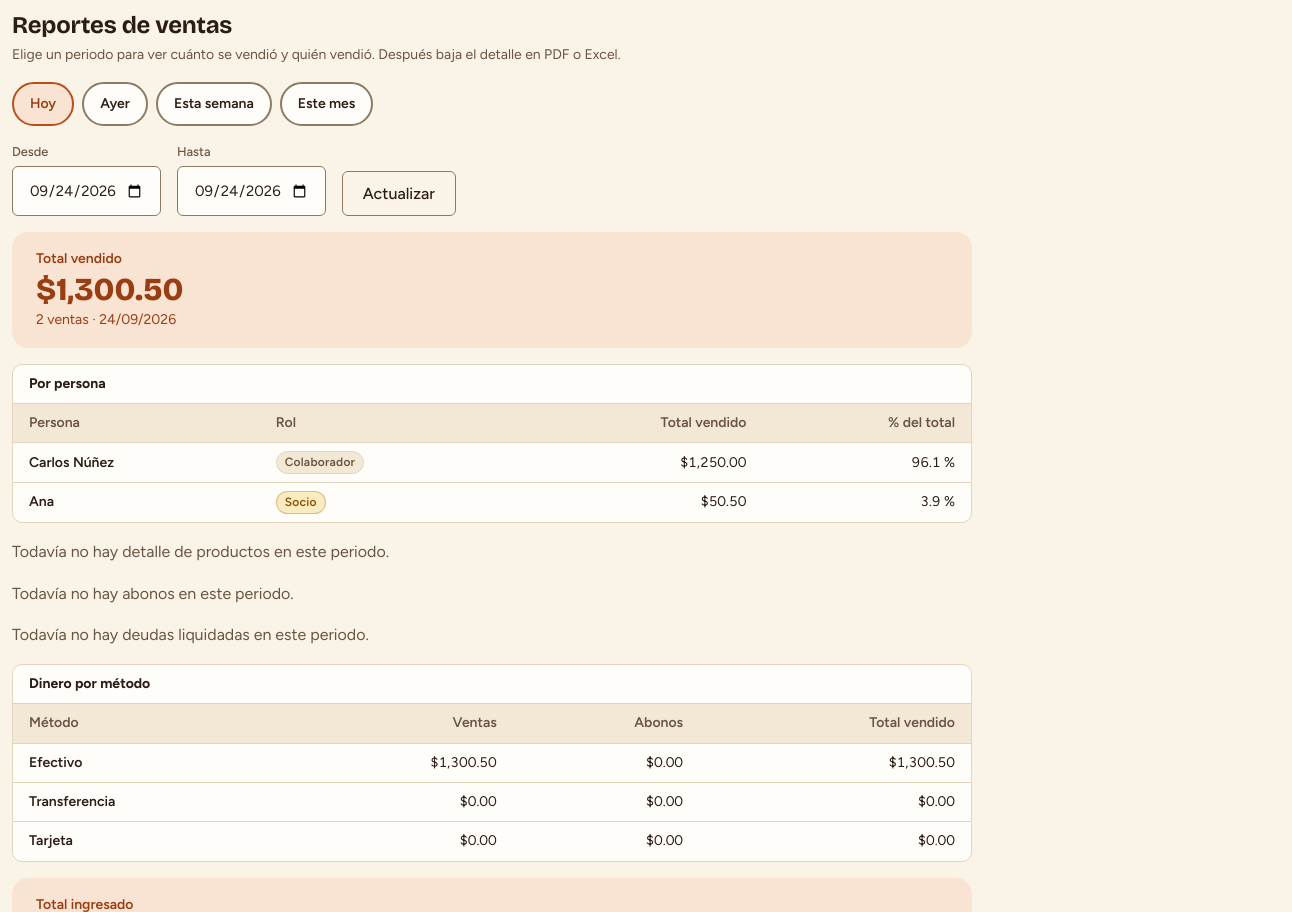
Test: ReportsView — rangos › preset "Esta semana" queries {"from":"2026-09-20","to":"2026-09-24"} right away
Click the button with class "report-range-picker__preset" showing "Esta semana": [214, 104] box left=156, top=82, right=272, bottom=126
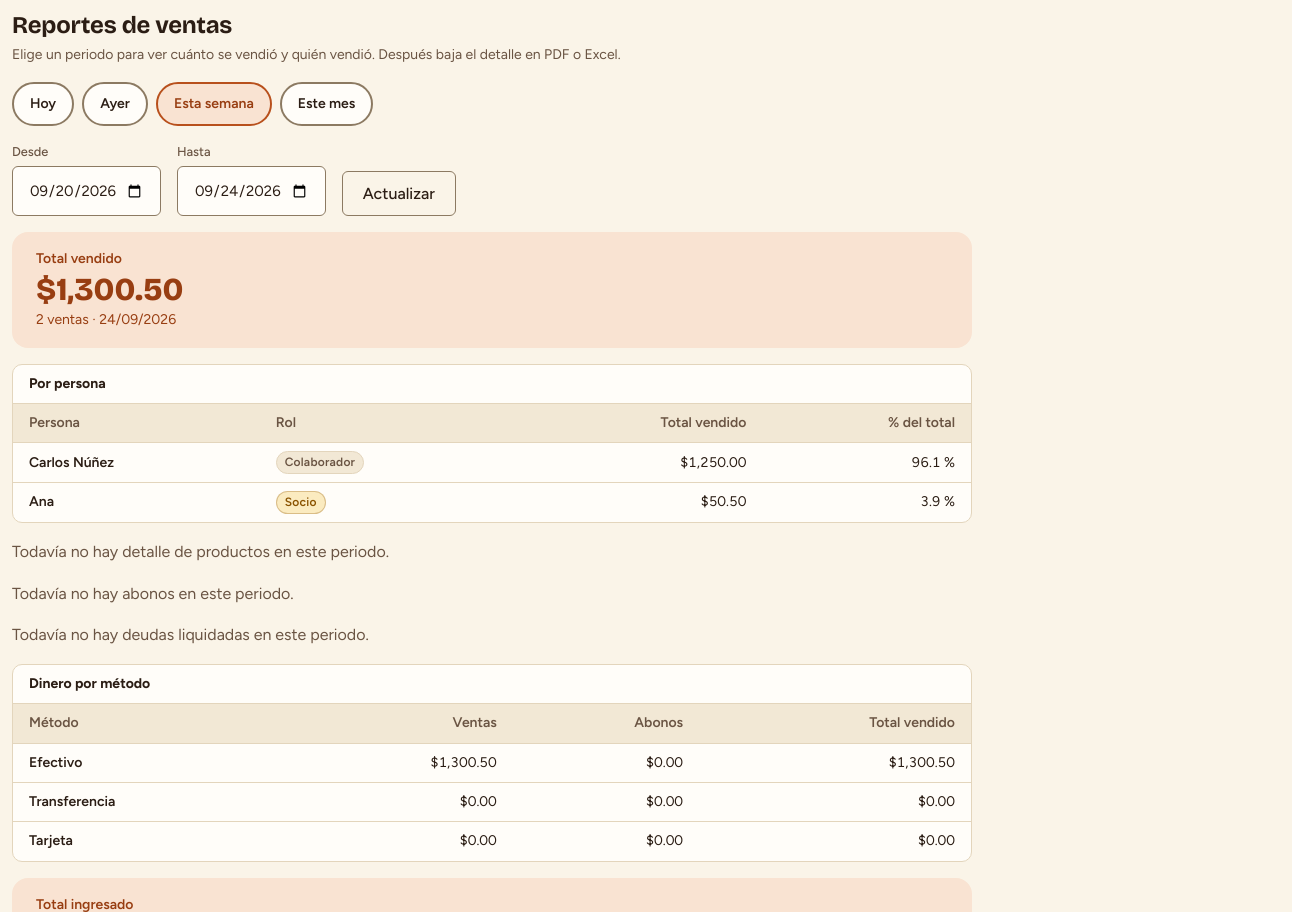
Check: the date field labelled "Hasta" holds "2026-09-24", box left=177, top=166, right=326, bottom=216
Check: the date field labelled "Desde" holds "2026-09-20", box left=12, top=166, right=161, bottom=216
